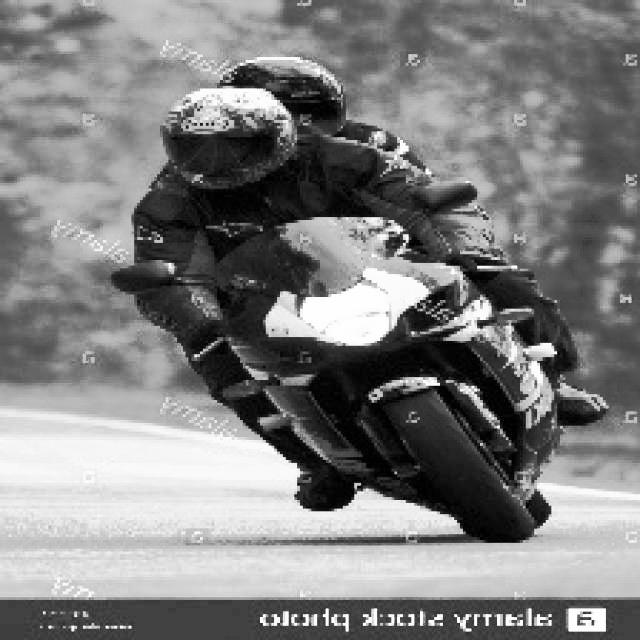Bike: (201, 226, 577, 548)
